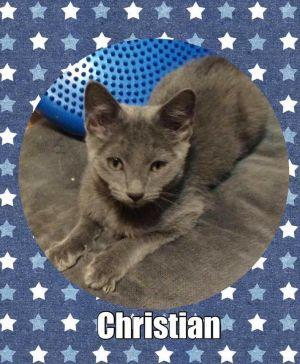rblue: (68, 69, 207, 227)
